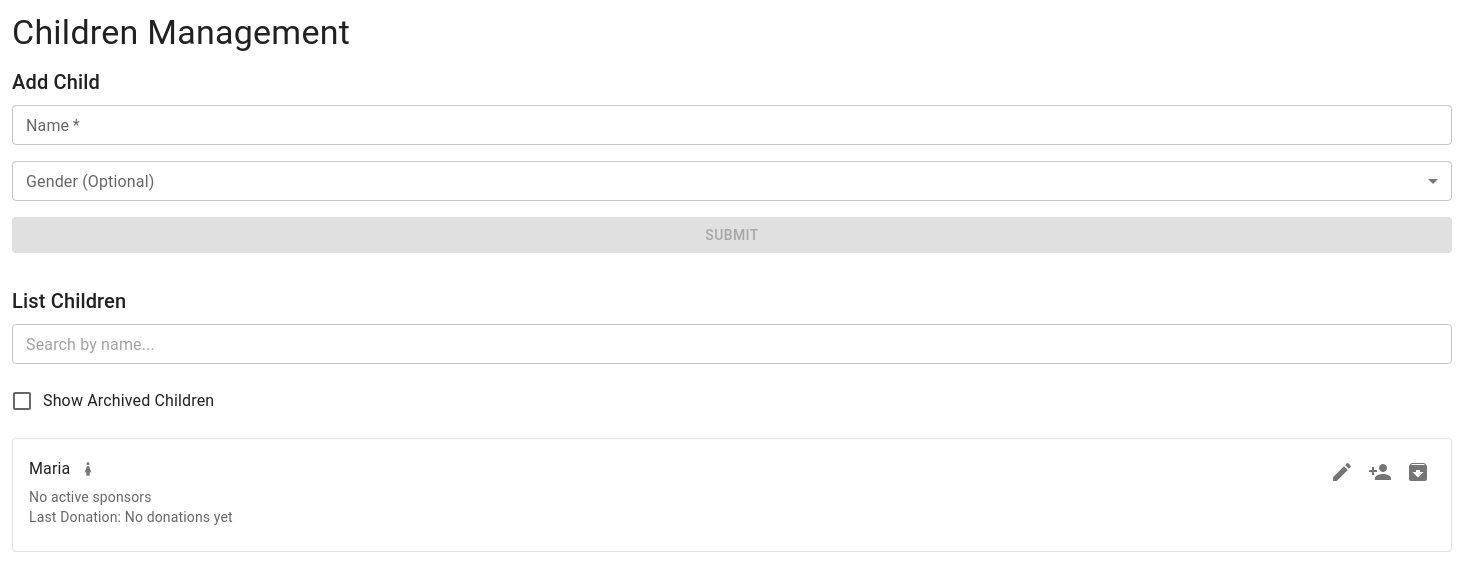
Test: ChildrenPage › populates form with name and gender when edit button clicked
Expected: the text "Maria" is shown, [29,455,70,483]
// Click Edit button
Click the button named "edit" at [1342, 472], box [1325,455,1359,489]
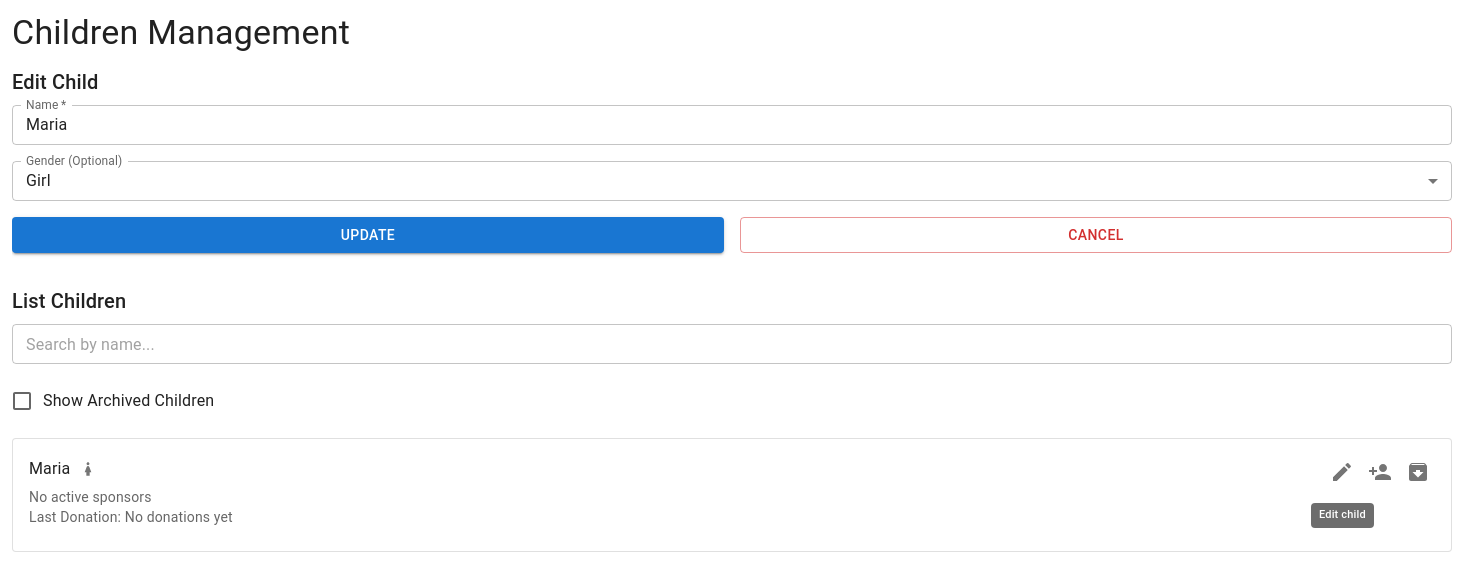
Expected: the field labelled "Name *" holds "Maria", [12,105,1452,145]
Expected: the dropdown named "gender" reads "Girl", [26,171,51,190]
